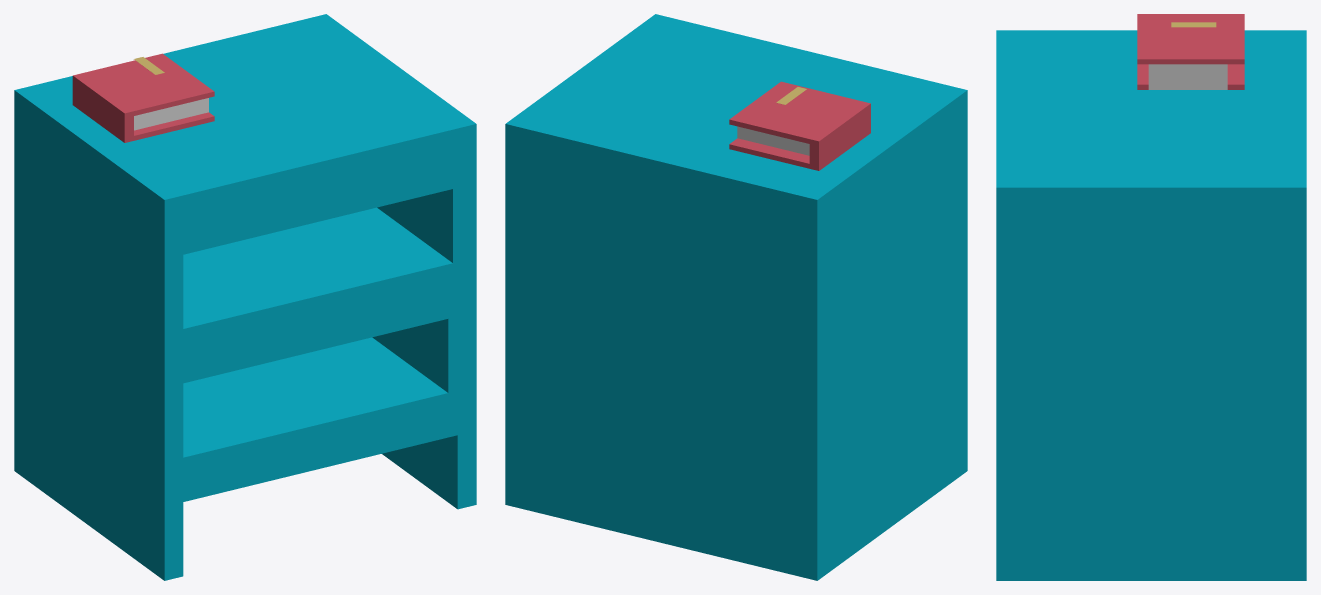
Rendered from Book with Table.glb.
3 renders of one model, left to right at view 1: azimuth 30°, elevation 25°; view 2: azimuth 150°, elevation 25°; view 3: azimuth 270°, elevation 25°, orthographic. The views are drawn at different scales.
Visible parts, largest first — view 1: Mesh_Mesh_head_geo.001_lambert2SG.001; view 2: Mesh_Mesh_head_geo.001_lambert2SG.001; view 3: Mesh_Mesh_head_geo.001_lambert2SG.001.
Part boxes in pixels (x1=…): Mesh_Mesh_head_geo.001_lambert2SG.001: x1=14, y1=14, x2=476, y2=580; Mesh_Mesh_head_geo.001_lambert2SG.001: x1=505, y1=14, x2=967, y2=580; Mesh_Mesh_head_geo.001_lambert2SG.001: x1=996, y1=14, x2=1306, y2=580.
Bounding box in the file's own units: 66 × 86.01 × 55.
